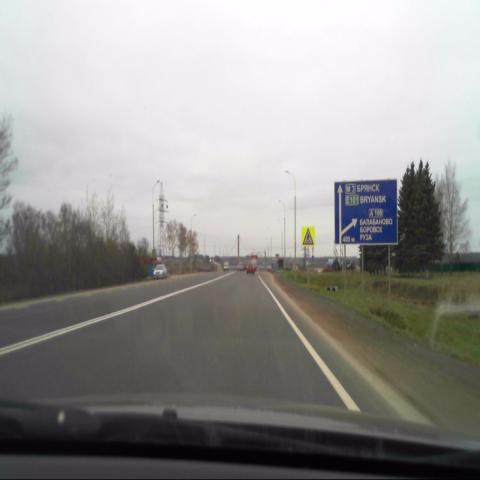1_22: (302, 226, 314, 245)
